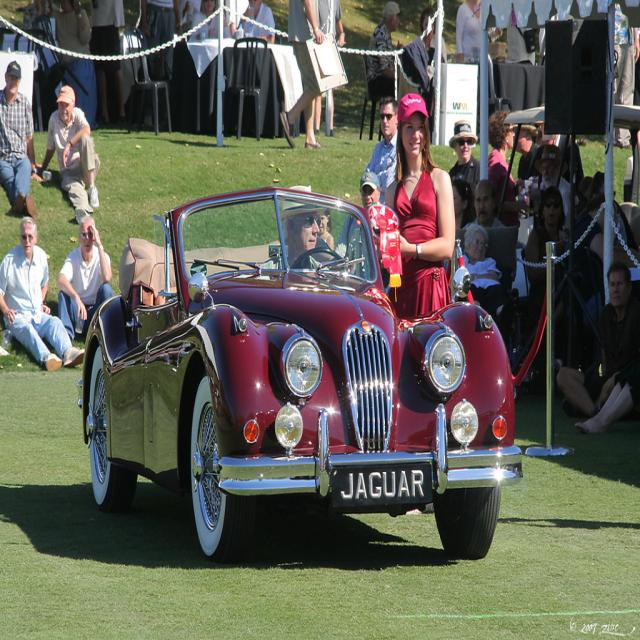car: (75, 184, 521, 560)
